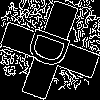D: (25, 25, 81, 75)
